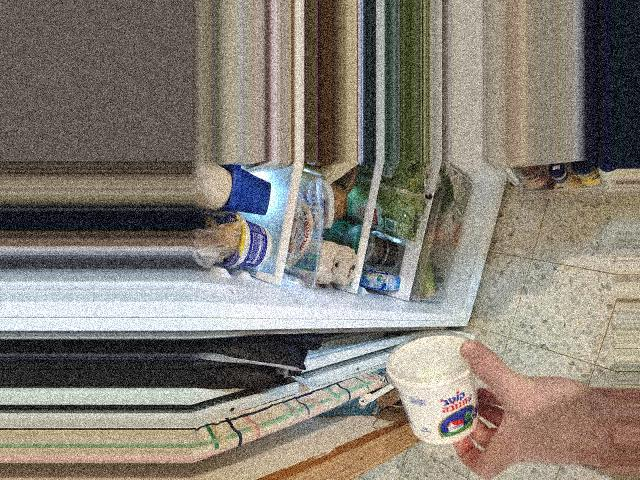cotage: (383, 329, 493, 448)
